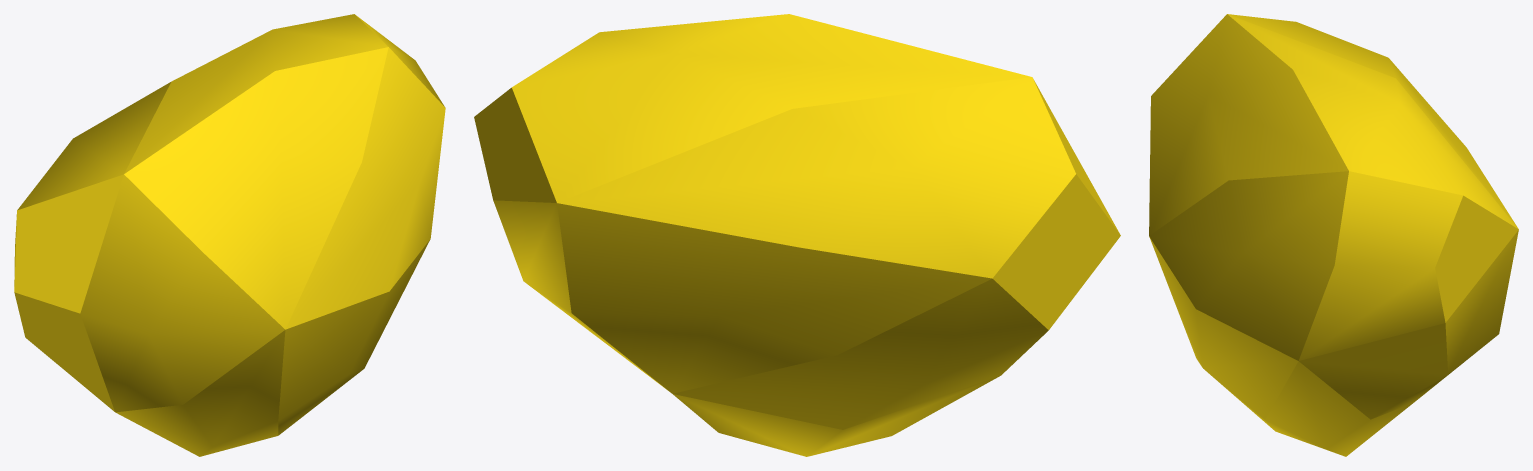
3 views of the same model, side by side, from view 1: azimuth 30°, elevation 25°; view 2: azimuth 150°, elevation 25°; view 3: azimuth 270°, elevation 25° (orthographic). The views are drawn at different scales.
Visible parts, largest first — view 1: Nose; view 2: Nose; view 3: Nose.
Part boxes in pixels (bbox=[...]): Nose: bbox=[14, 14, 445, 456]; Nose: bbox=[474, 14, 1120, 456]; Nose: bbox=[1149, 14, 1518, 456].
Bounding box in the file's own units: 10.82 × 6.96 × 7.83.
